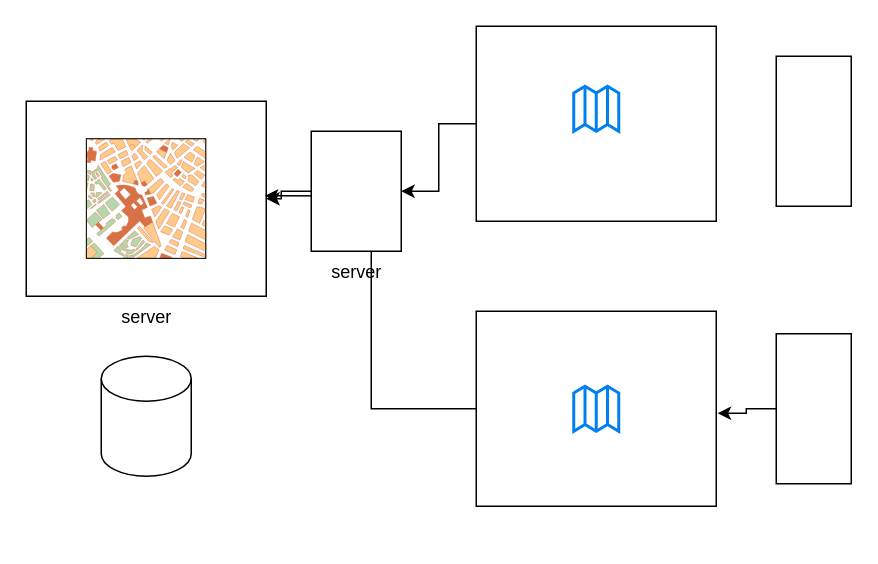
Some shapes in this 878 by 564 pixel diagram are drawn without their labels. The box of each missing label's shape, as (x1, y1, x2, y2) in pixels:
app1: (475, 25, 716, 221)
app2: (475, 310, 716, 506)
